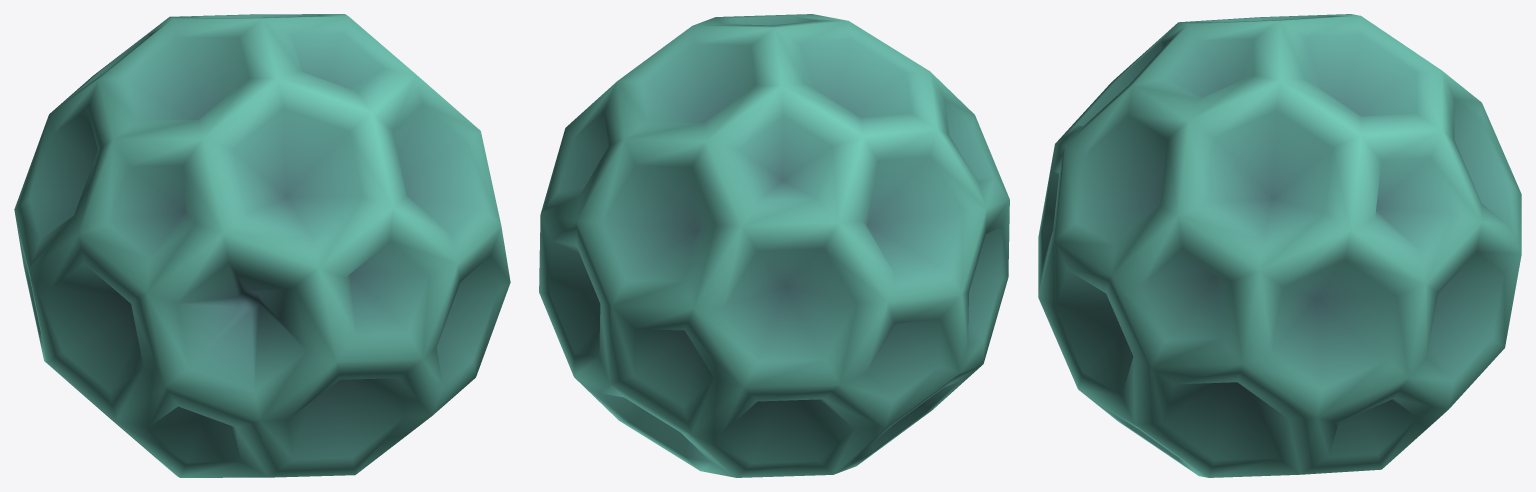
Rendered from microscopic-pollen-spores-angular-pollen_v1.glb.
3 views of the same model, side by side, from view 1: azimuth 30°, elevation 25°; view 2: azimuth 150°, elevation 25°; view 3: azimuth 270°, elevation 25° (orthographic). The views are drawn at different scales.
Parts seen in each view (by area): view 1: Angular Pollen; view 2: Angular Pollen; view 3: Angular Pollen.
Part boxes in pixels (<box>): Angular Pollen: <box>14,14,510,477</box>; Angular Pollen: <box>539,14,1009,477</box>; Angular Pollen: <box>1038,14,1521,477</box>.
Size of the model in its own units: 0.2959 by 0.3 by 0.292.
